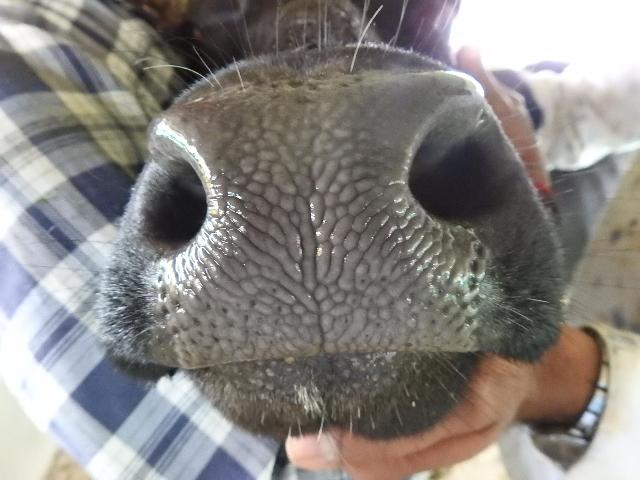Muzzle: (182, 121, 422, 349)
